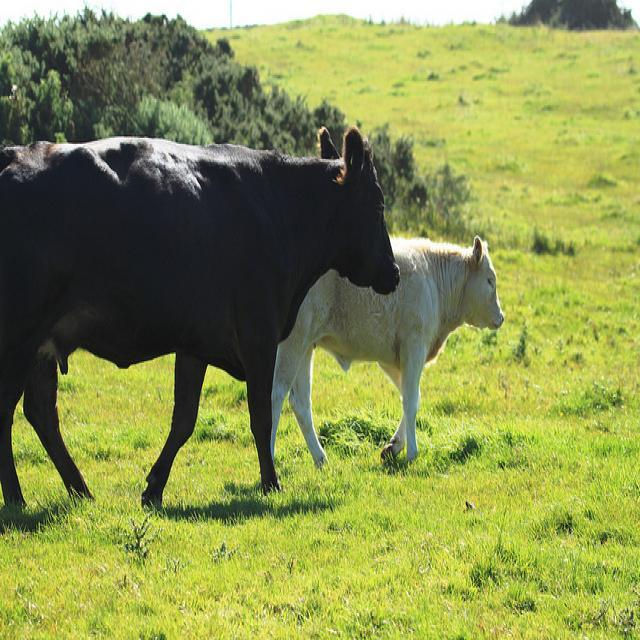cow: (0, 128, 403, 505), (271, 232, 503, 468)
